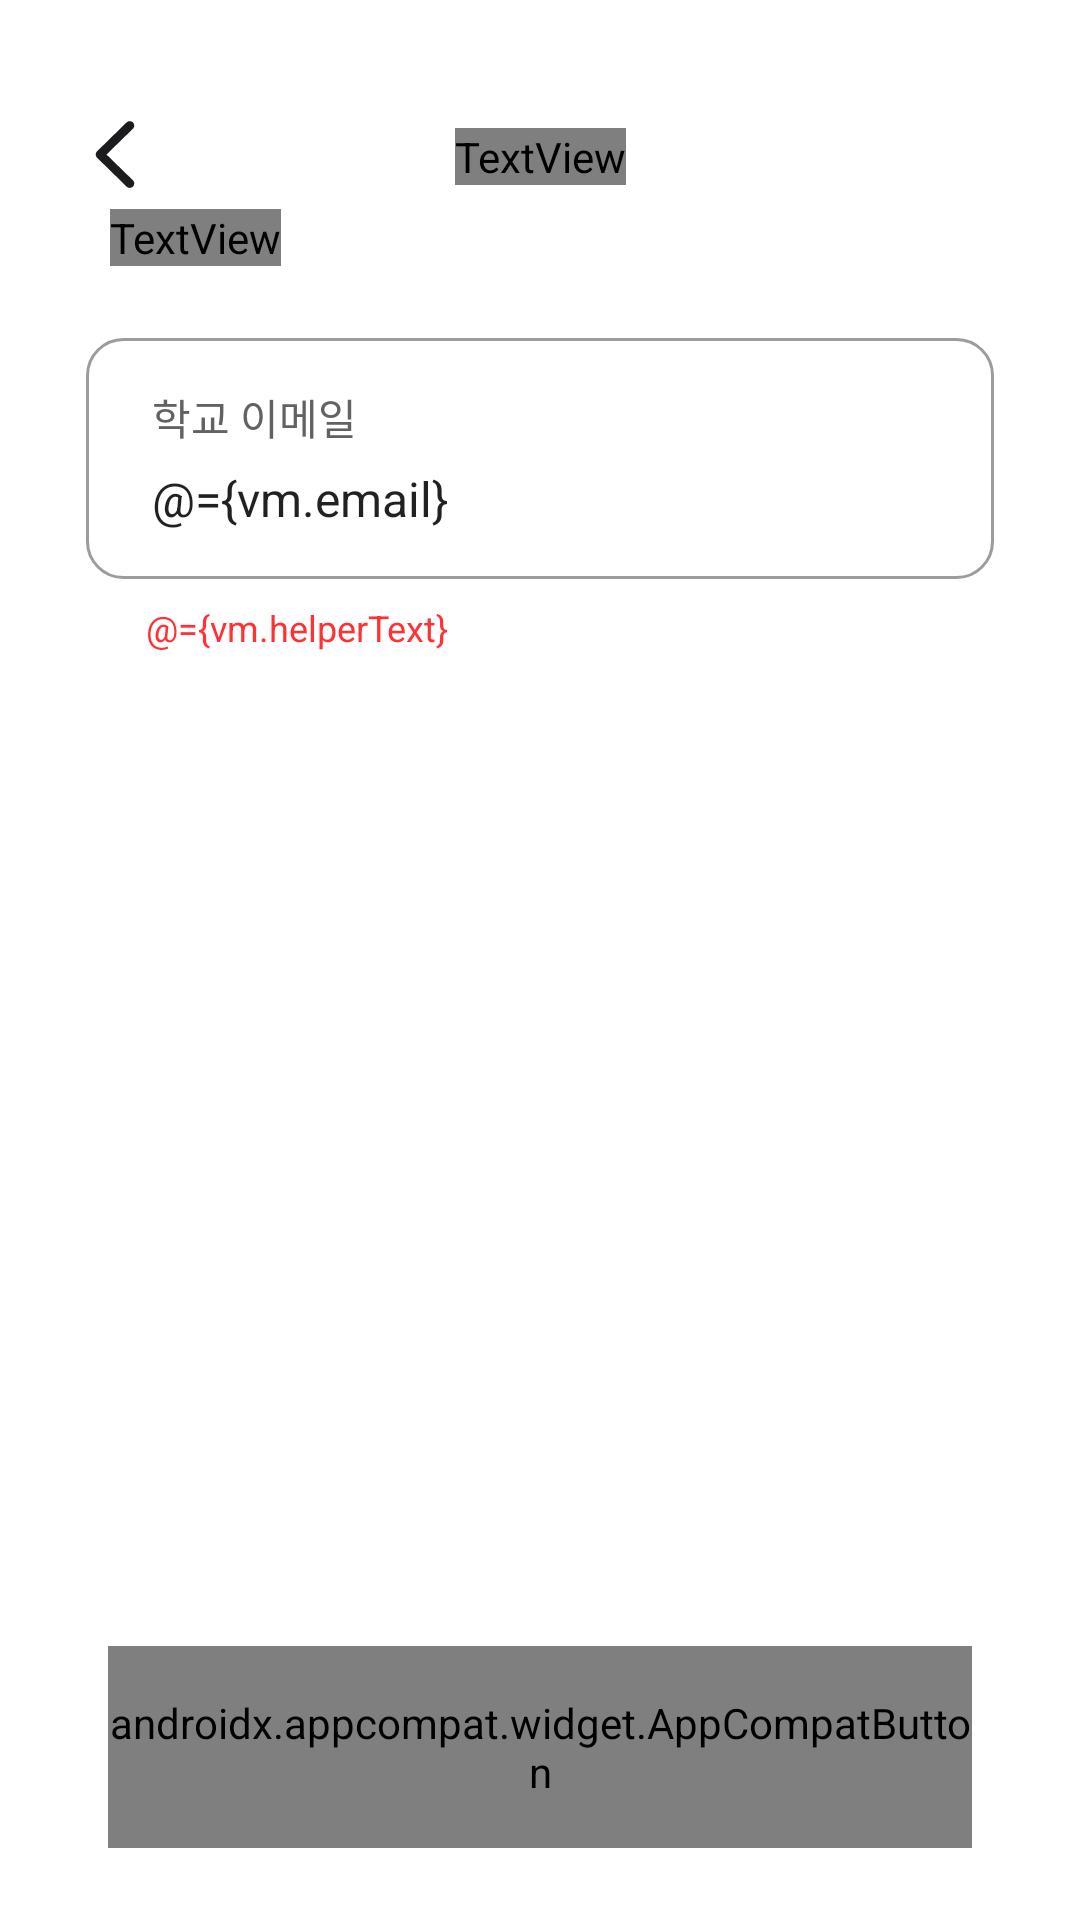

Where to tap for icons on this 1080w x 1920h app screen, as (x,y):
backward: (115,154)
